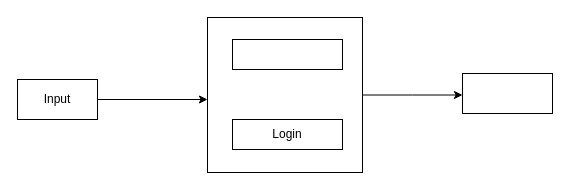
Some shapes in this 570 by 190 pixel diagram are drawn without their labels. The centre of each missing label's shape, as x and y in pixels:
"Face Detection and recognition" belongs at (x=287, y=54).
"Output" belongs at (x=507, y=93).
